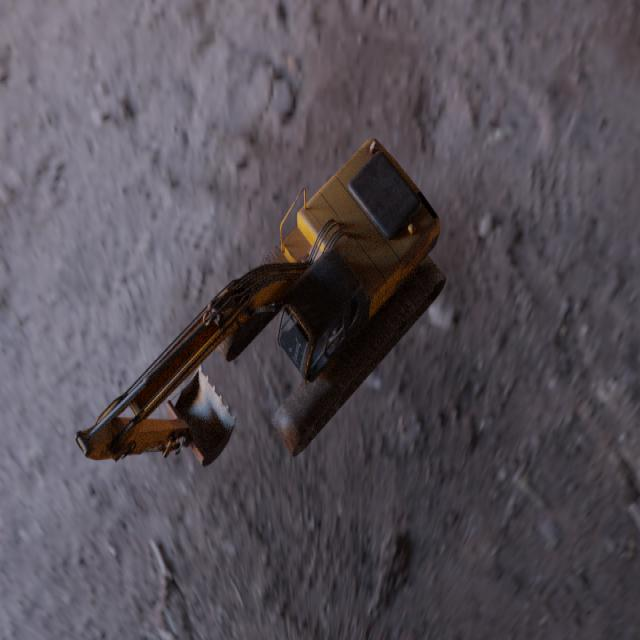excavator: (73, 136, 447, 467)
